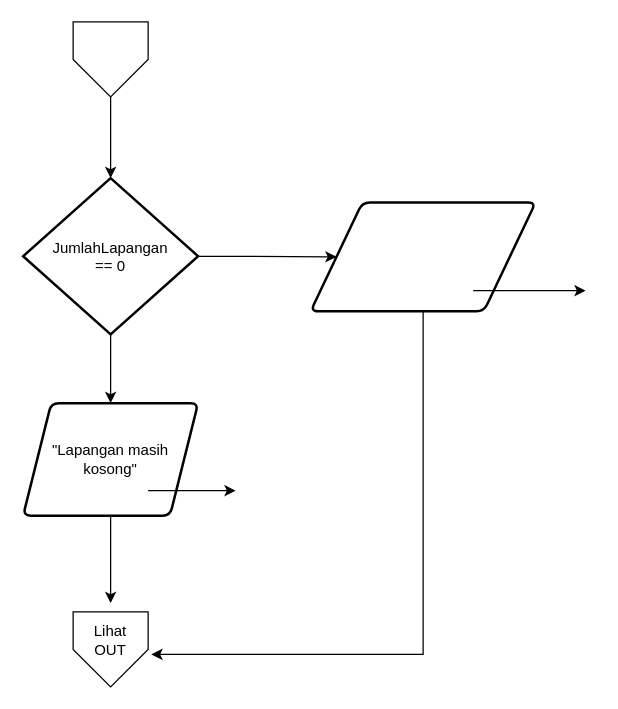
The diagram is 618 pixels wide and 709 high, and some of its shapes have lost their labels. The shapes that lost their labels are listed below. From the top down, each one's centre as x and y in pixels, then its label:
[110,59]: Lihat
[422,256]: "daftar lapangan id lapangan : harga sewa : lokasi : status : "
